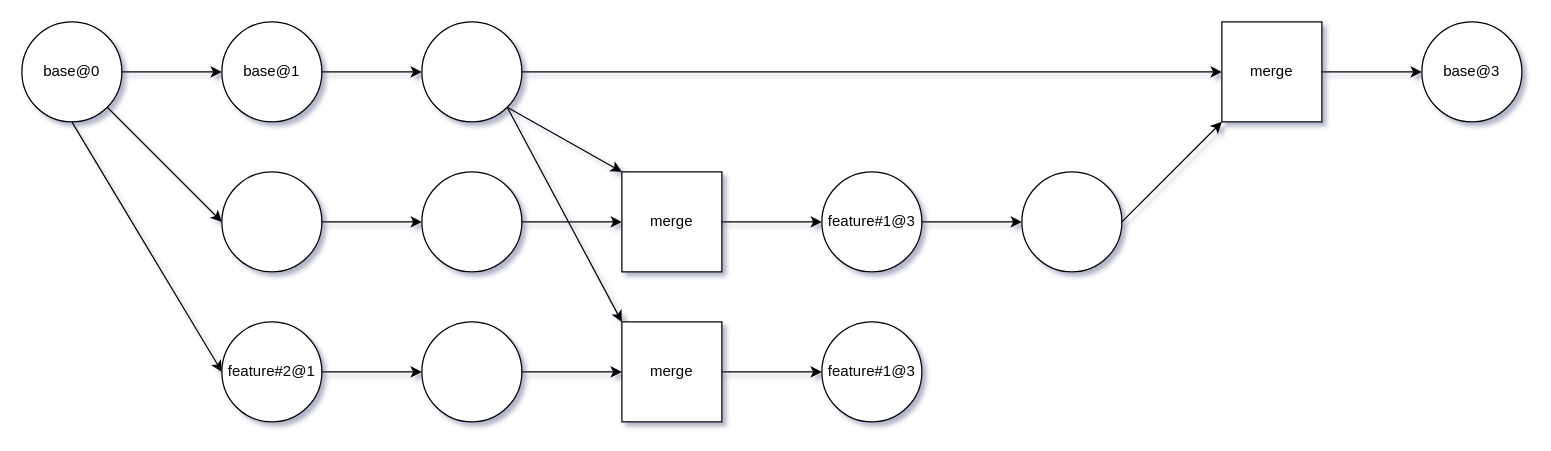
The diagram is 1551 pixels wide and 451 high, and some of its shapes have lost their labels. Each missing label, with the centre of its shape:
base@2: the point at 471,71
feature#1@1: the point at 271,221
feature#1@2: the point at 471,221
feature#1@4: the point at 1071,221
feature#2@2: the point at 471,371
